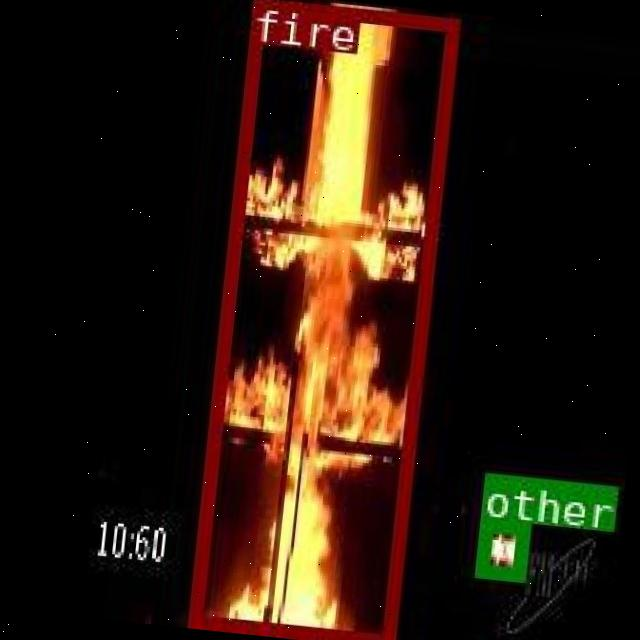fire: (187, 0, 455, 640)
